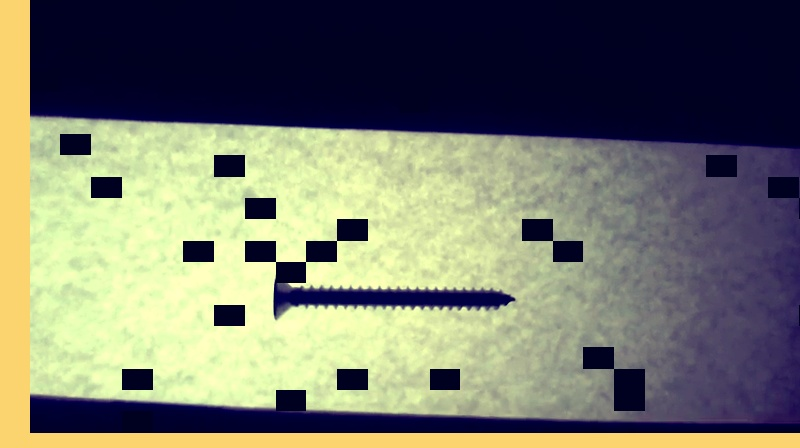S002: (268, 269, 517, 323)
